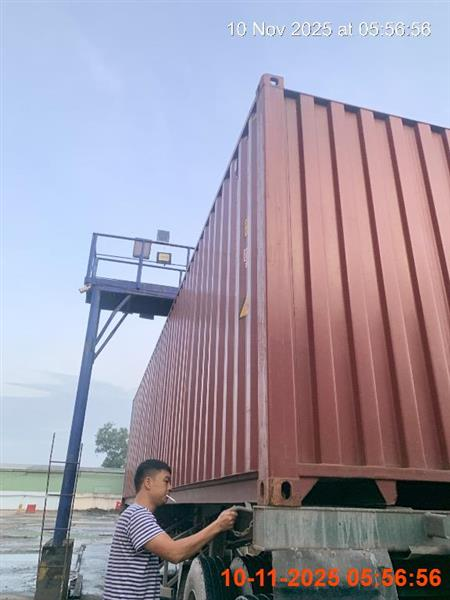crack: (26, 74, 447, 599), (102, 458, 239, 599)
